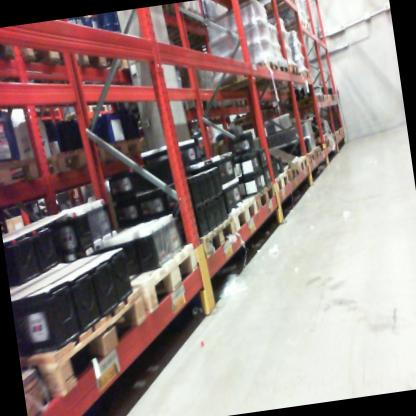pallet: (12, 283, 161, 410), (103, 233, 211, 332), (14, 26, 82, 82), (0, 140, 54, 208), (191, 210, 242, 278), (210, 56, 281, 95), (72, 32, 126, 82), (53, 130, 104, 179), (219, 192, 263, 240), (99, 132, 148, 173), (22, 362, 55, 416), (278, 91, 323, 120), (249, 180, 280, 217), (174, 87, 210, 118), (0, 27, 26, 68), (257, 0, 300, 19), (220, 93, 251, 117), (269, 168, 293, 197), (232, 108, 270, 125), (283, 161, 304, 187), (280, 18, 306, 36), (284, 58, 304, 81), (289, 155, 309, 177), (296, 66, 316, 86), (269, 59, 290, 78), (317, 90, 328, 113), (311, 142, 323, 163), (313, 129, 329, 144), (299, 20, 313, 37), (305, 149, 315, 169), (274, 101, 285, 118), (268, 104, 277, 120)
